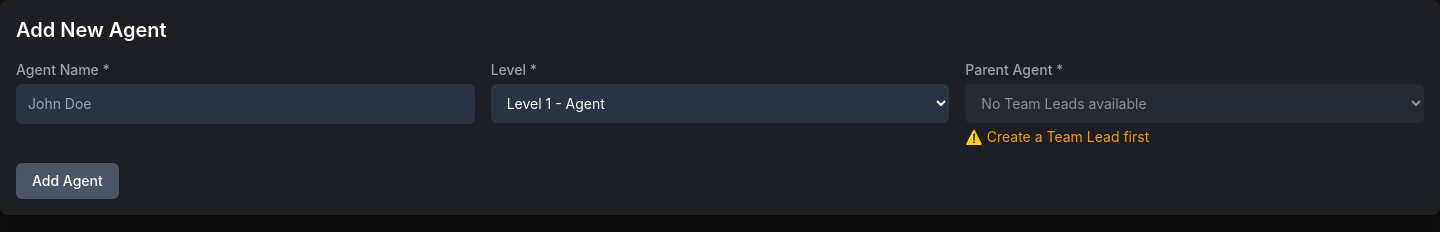
it: AgentForm › disables submit button during submission
In the field labelled "Agent Name *": (245, 104) [16,84,475,124], type "Test"
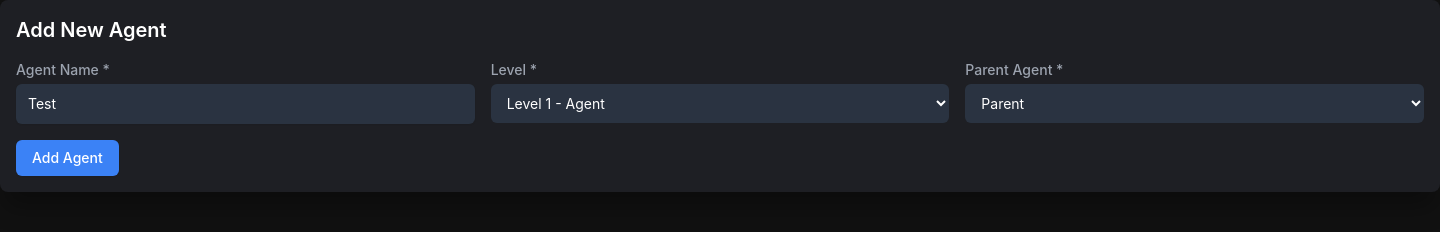
Click the button "Add Agent": (67, 158) [16,140,119,176]
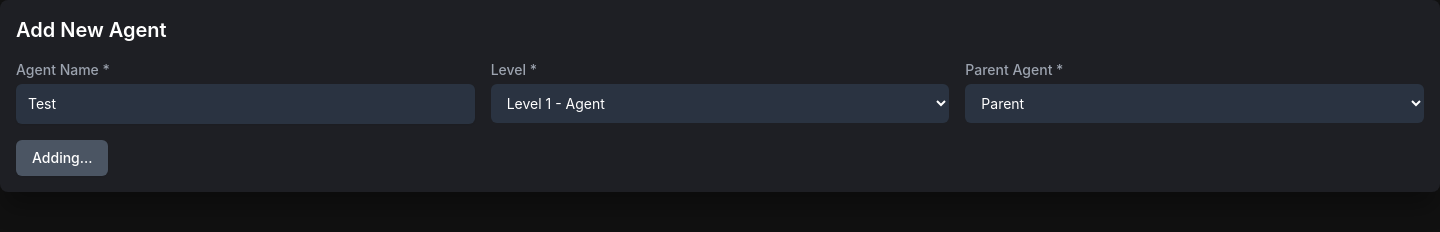
Now the button named "add agent" is disabled, box [16,140,108,176]
